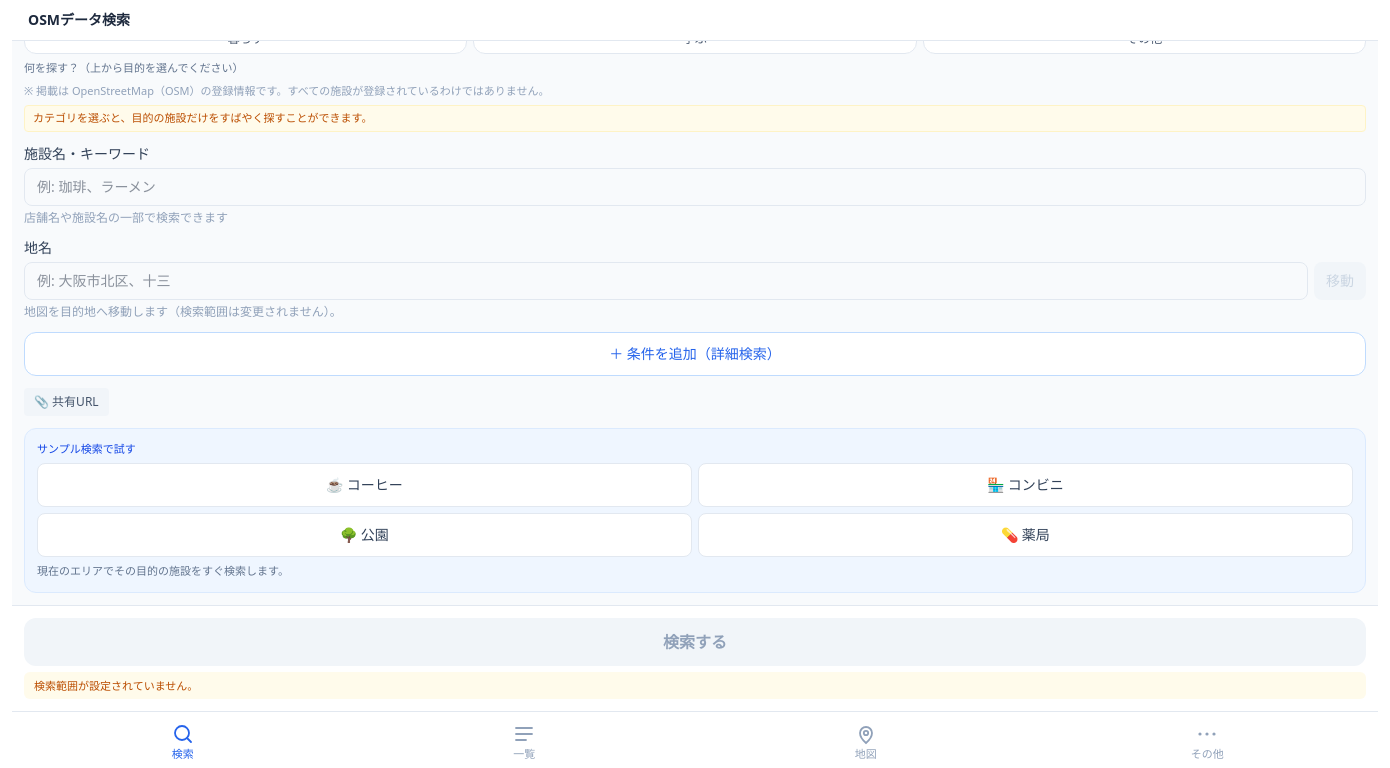
it: (#44) 目的チップとサンプル検索 › サンプル検索: 「コーヒー」タップで現在のエリア+cafe検索が即実行される
(page scrolled)
Click the button "☕ コーヒー": click(364, 485) [37,463,692,507]
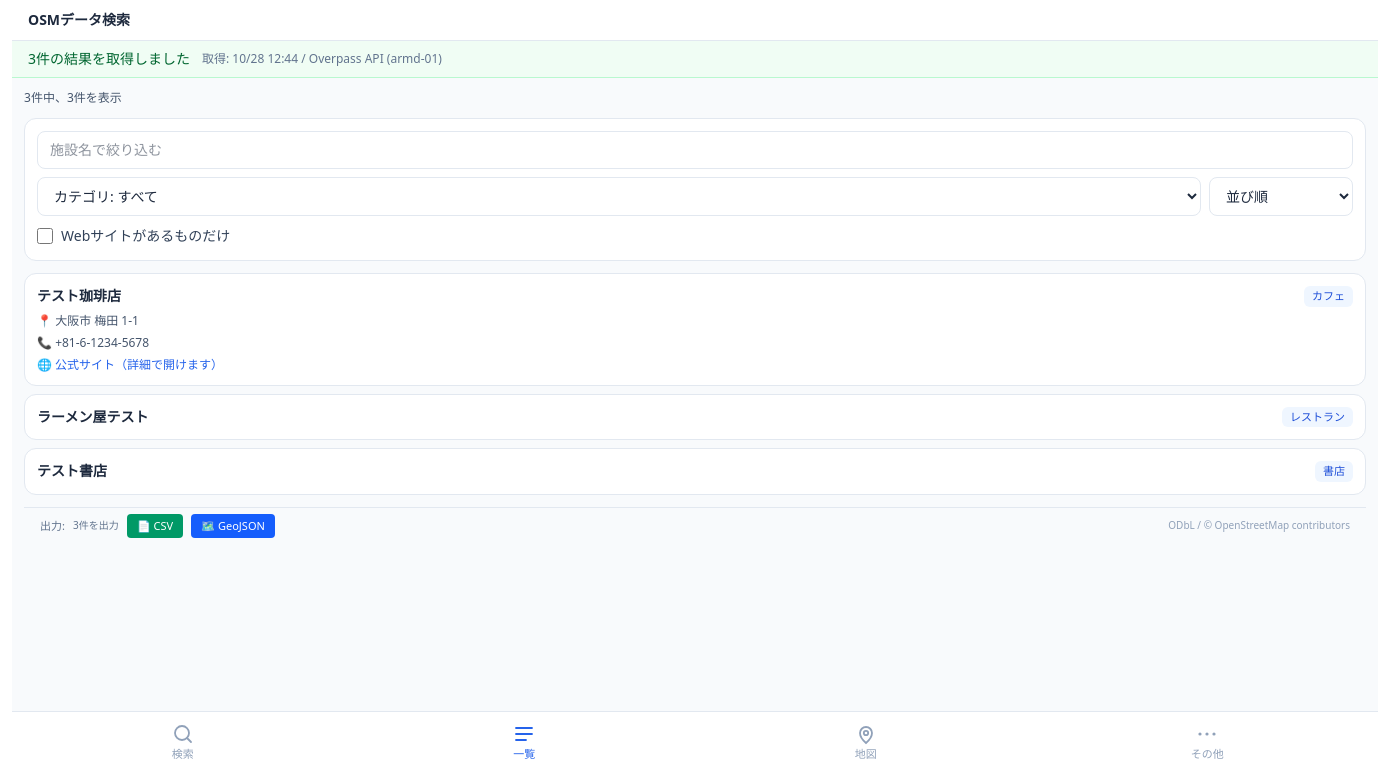
Expected: the text "3件の結果を取得しました" is shown, [28,49,190,69]
